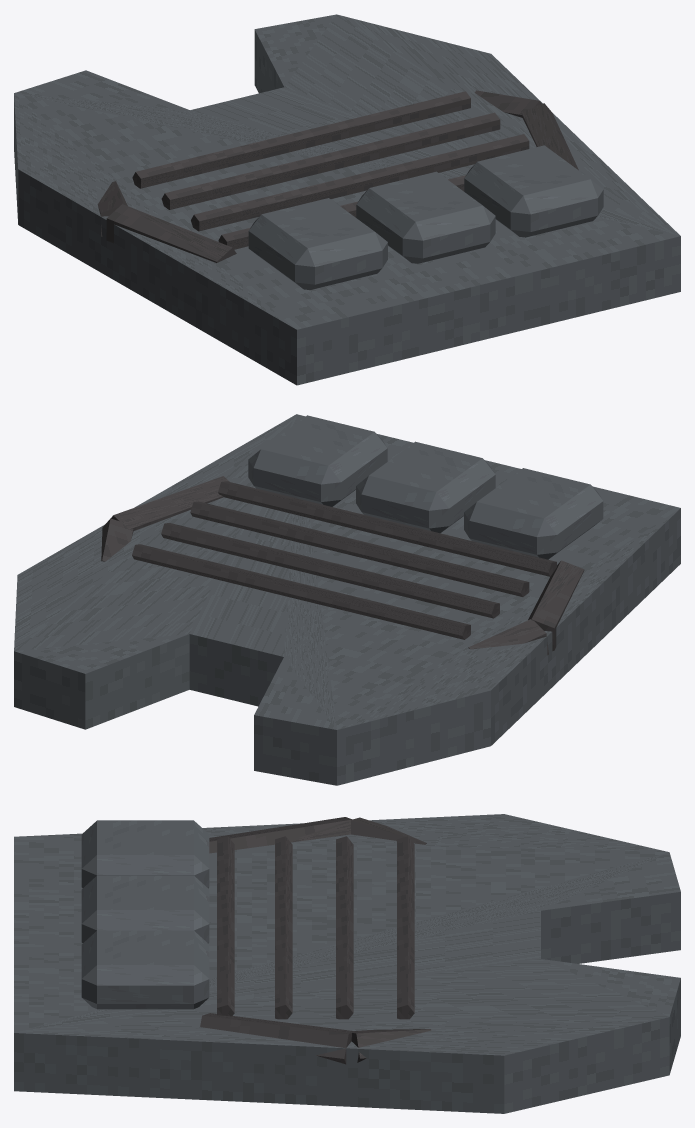
File: light_load_bearing_vest.glb
The picture shows the model from 3 angles, top to bottom: view 1: azimuth 30°, elevation 25°; view 2: azimuth 150°, elevation 25°; view 3: azimuth 270°, elevation 25°; orthographic projection. The views are drawn at different scales.
Visible parts, largest first — view 1: block_vest body, block_front utility compartment (×3), block_webbing row 0 (×4), block_adjustment strap 1 (×2), block_adjustment strap 0 (×2); view 2: block_vest body, block_front utility compartment (×3), block_webbing row 0 (×4), block_adjustment strap 1 (×2), block_adjustment strap 0 (×2); view 3: block_vest body, block_front utility compartment (×3), block_webbing row 0 (×4), block_adjustment strap 1 (×2), block_adjustment strap 0 (×2).
Boxes of the visible parts, x1,y1,x2,y2 form: block_vest body: [14, 14, 680, 385]; block_front utility compartment (×3): [248, 145, 603, 289]; block_webbing row 0 (×4): [132, 91, 529, 249]; block_adjustment strap 1 (×2): [106, 103, 578, 262]; block_adjustment strap 0 (×2): [97, 90, 541, 236]; block_vest body: [14, 414, 680, 785]; block_front utility compartment (×3): [248, 415, 603, 559]; block_webbing row 0 (×4): [132, 481, 556, 639]; block_adjustment strap 1 (×2): [111, 476, 584, 651]; block_adjustment strap 0 (×2): [101, 518, 548, 655]; block_vest body: [14, 814, 680, 1113]; block_front utility compartment (×3): [81, 820, 209, 1009]; block_webbing row 0 (×4): [217, 836, 414, 1019]; block_adjustment strap 1 (×2): [200, 817, 354, 1064]; block_adjustment strap 0 (×2): [351, 817, 431, 1062].
Size of the model in its own units: 0.185 by 0.0358 by 0.2159.
Materials: 1 (1 with a texture image).
